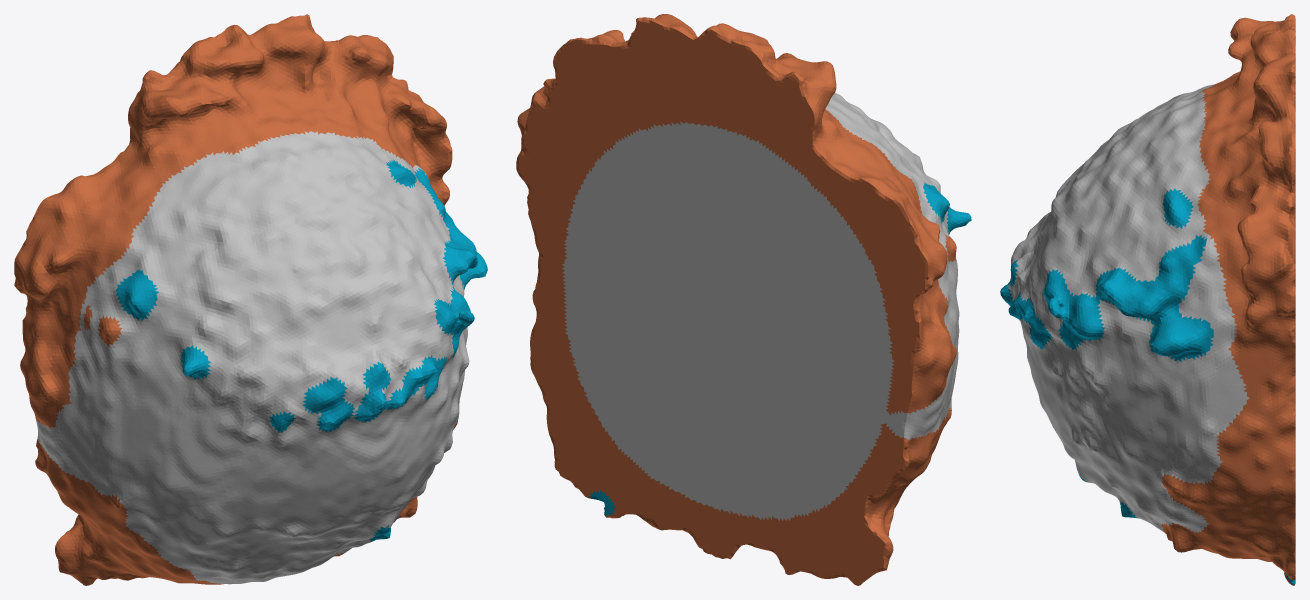
3 renders of one model, left to right at view 1: azimuth 30°, elevation 25°; view 2: azimuth 150°, elevation 25°; view 3: azimuth 270°, elevation 25°, orthographic. The views are drawn at different scales.
Size of the model in its own units: 103 by 123 by 63.64.
